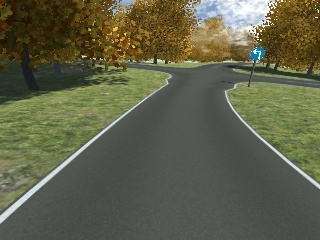TLeft: (250, 45, 265, 61)
